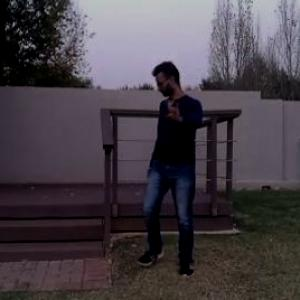takeoff-hand: (164, 92, 189, 123)
